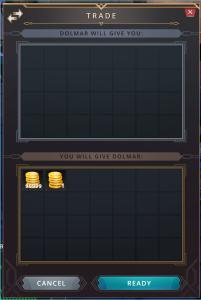gold: (22, 169, 43, 190), (45, 169, 65, 190)
